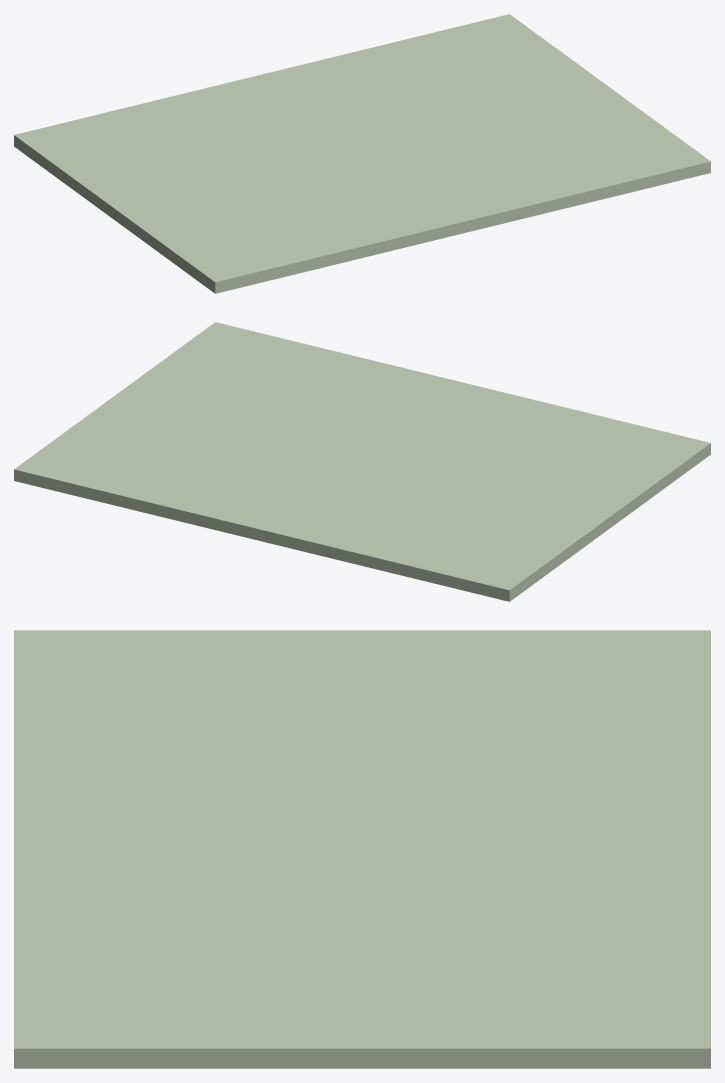
The picture shows the model from 3 angles, top to bottom: view 1: azimuth 30°, elevation 25°; view 2: azimuth 150°, elevation 25°; view 3: azimuth 270°, elevation 25°; orthographic projection. The views are drawn at different scales.
Parts seen in each view (by area): view 1: root; view 2: root; view 3: root.
Boxes of the visible parts, x1,y1,x2,y2 form: root: (14, 14, 710, 293); root: (14, 322, 710, 601); root: (14, 630, 710, 1068).
Bounding box in the file's own units: 1.35 × 0.03 × 0.95.
